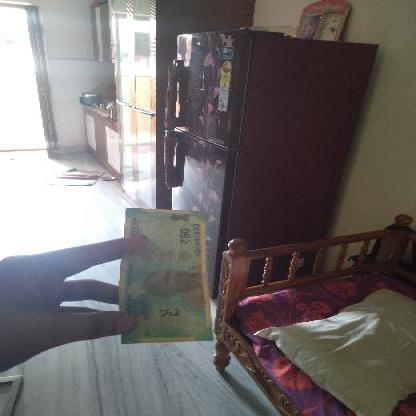New50Front: (121, 206, 211, 344)
